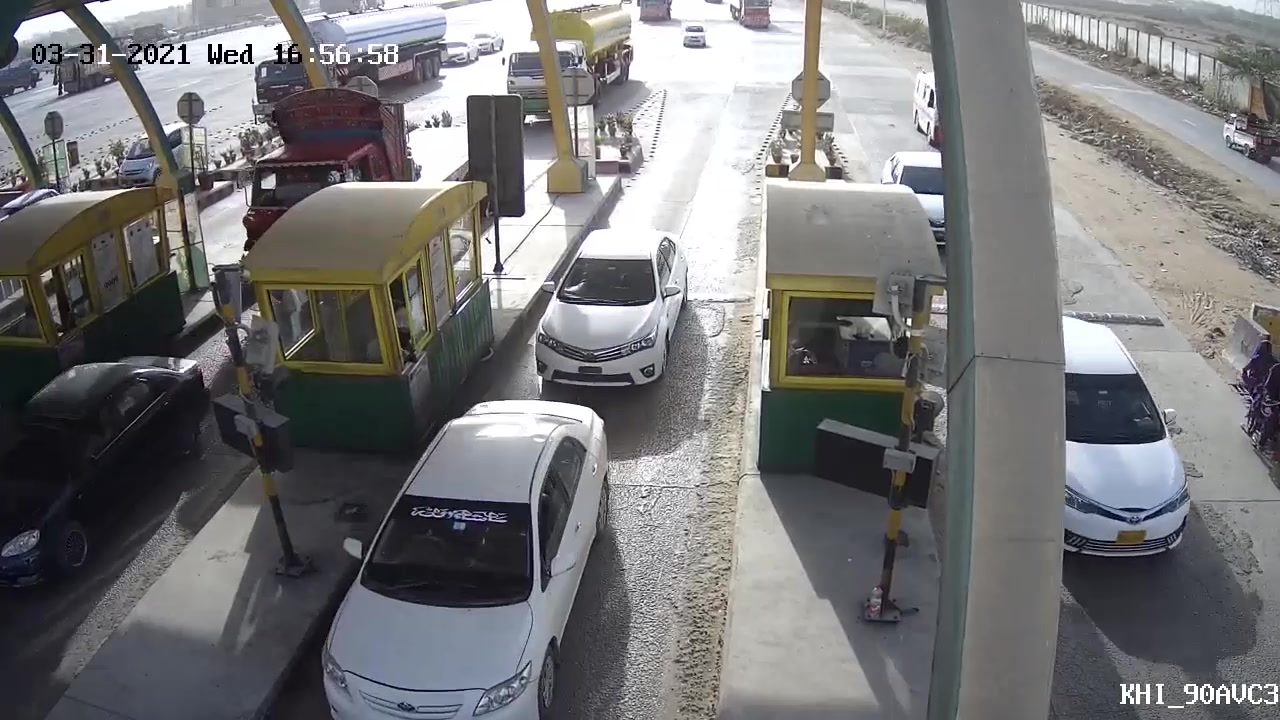F1: (525, 225, 696, 392)
